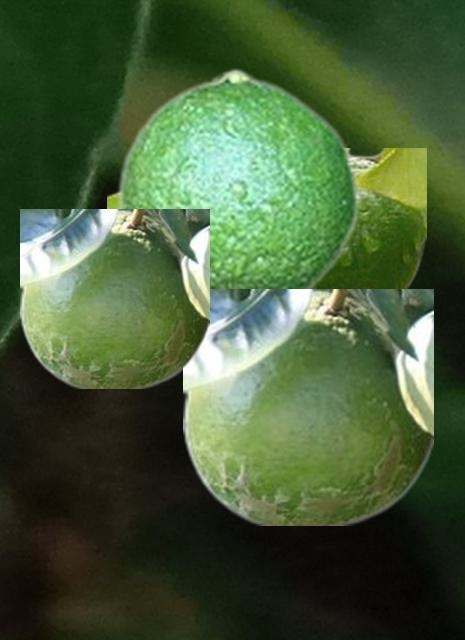dalandan: (183, 289, 432, 524), (115, 67, 359, 288), (20, 209, 208, 387), (316, 148, 425, 288)
